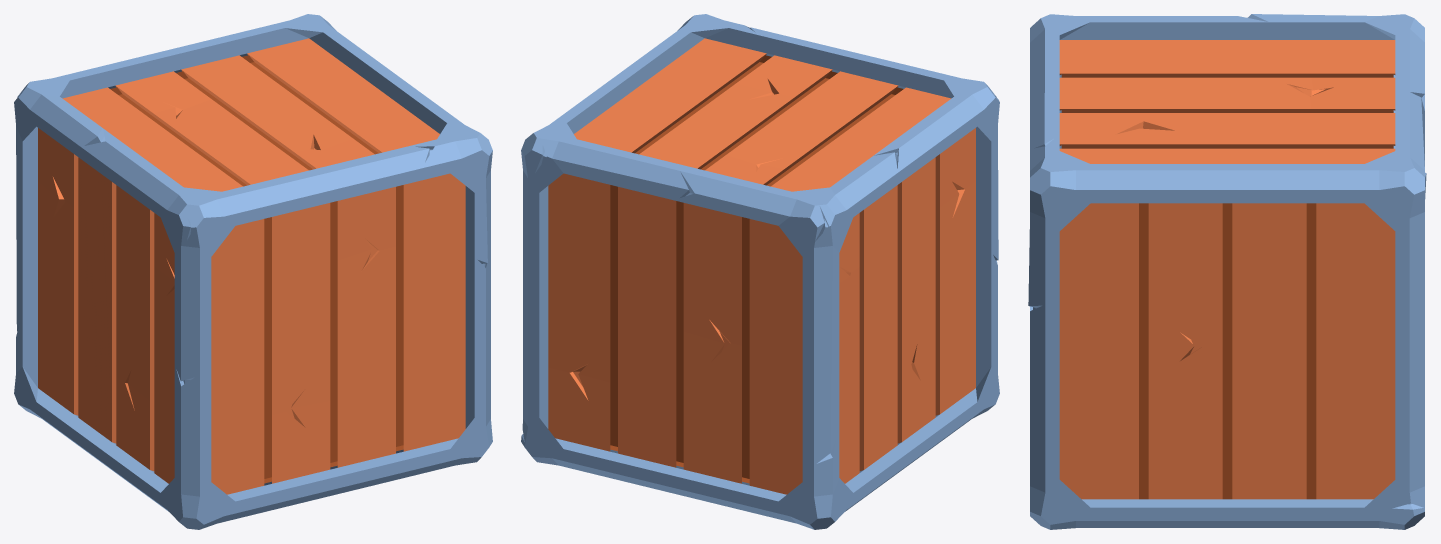
The picture shows the model from 3 angles, left to right: view 1: azimuth 30°, elevation 25°; view 2: azimuth 150°, elevation 25°; view 3: azimuth 270°, elevation 25°; orthographic projection. The views are drawn at different scales.
Visible parts, largest first — view 1: Box 1; view 2: Box 1; view 3: Box 1.
Part boxes in pixels (box(x1,y1,x2,y2)): Box 1: box(14, 14, 492, 529); Box 1: box(521, 14, 999, 529); Box 1: box(1028, 14, 1426, 529).
Size of the model in its own units: 128 by 128 by 129.
